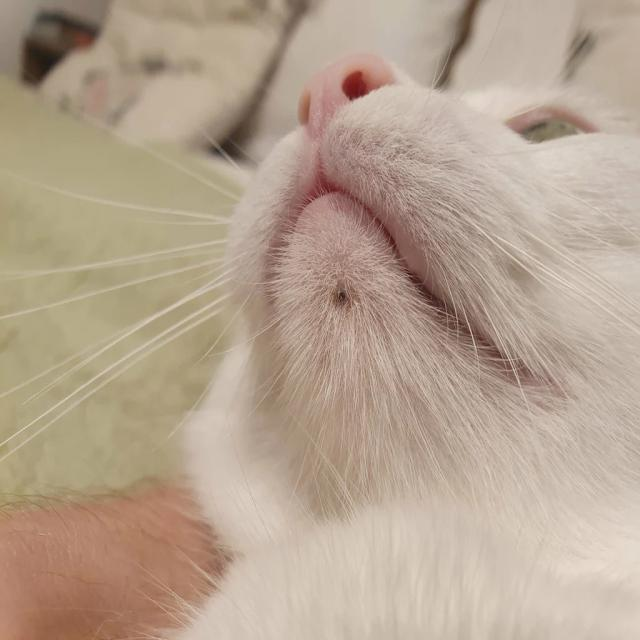cat-acne: (326, 273, 366, 320)
